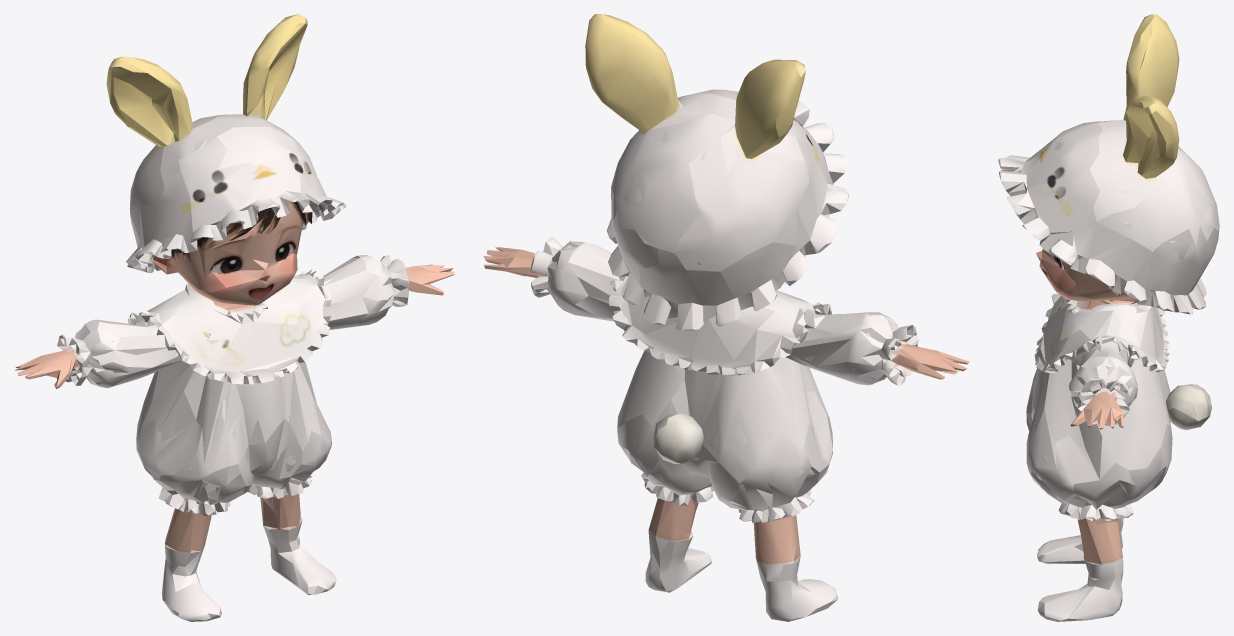
File: Meshy_AI_Bunny_Baby_Joy_0905100249_texture.glb
3 renders of one model, left to right at view 1: azimuth 30°, elevation 25°; view 2: azimuth 150°, elevation 25°; view 3: azimuth 270°, elevation 25°, orthographic. The views are drawn at different scales.
Visible parts, largest first — view 1: output_unwrapped; view 2: output_unwrapped; view 3: output_unwrapped.
Part boxes in pixels (bbox=[...]): output_unwrapped: bbox=[15, 14, 454, 621]; output_unwrapped: bbox=[483, 14, 969, 621]; output_unwrapped: bbox=[998, 14, 1219, 621].
Size of the model in its own units: 1.63 by 1.9 by 0.7211.
Materials: 1 (1 with a texture image).
